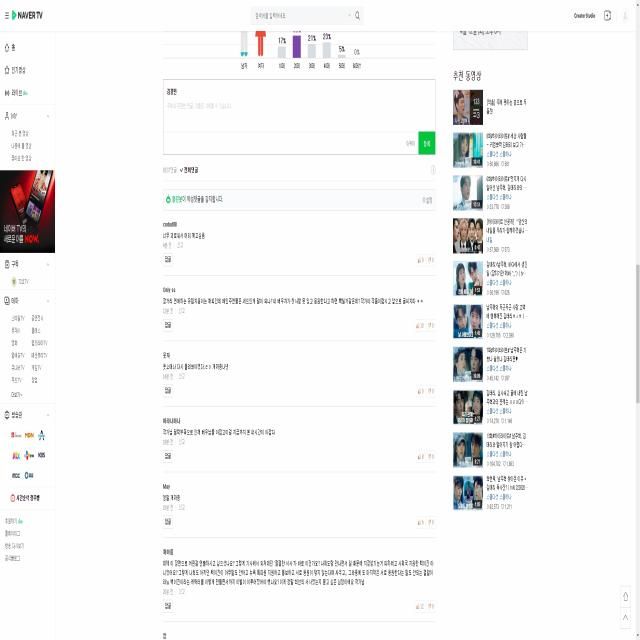menu-bar: (568, 1, 629, 27)
search: (251, 2, 365, 25)
